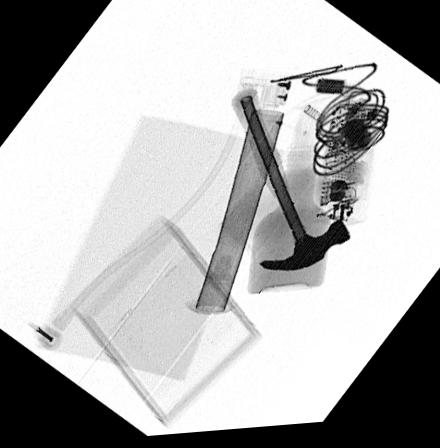Hammer: (230, 90, 351, 276)
